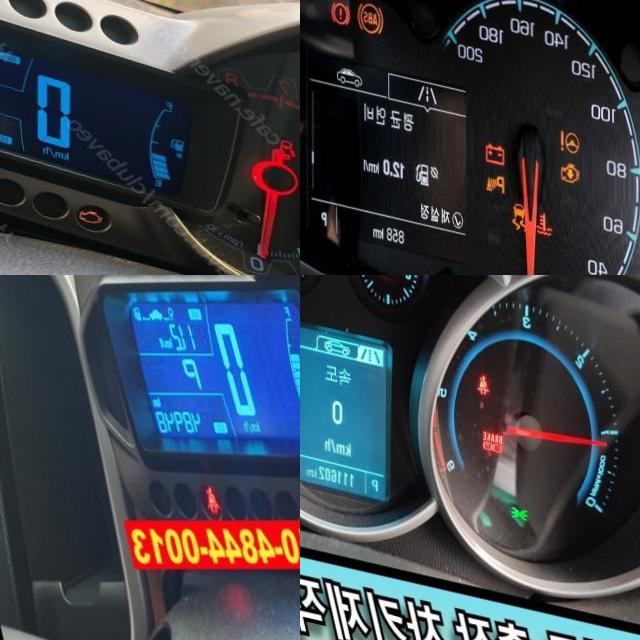Doors: (280, 112, 297, 135)
Engine cooling system: (537, 194, 554, 221)
SideLamp: (512, 482, 529, 498)
